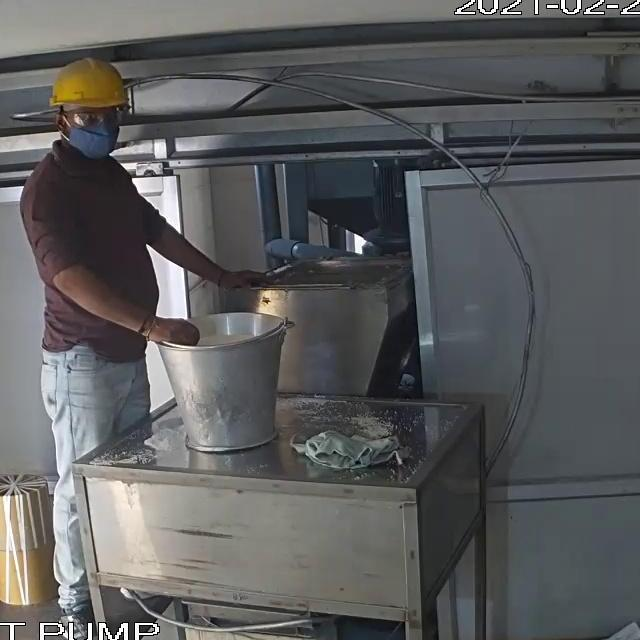Hardhat: (50, 56, 133, 115)
Mask: (68, 126, 123, 162)
NO-Safety Vest: (35, 154, 155, 356)
Person: (17, 55, 271, 640)
